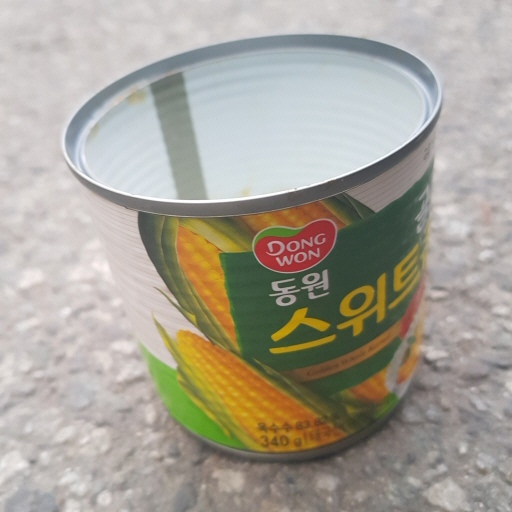Metal_1: (57, 33, 446, 463)
